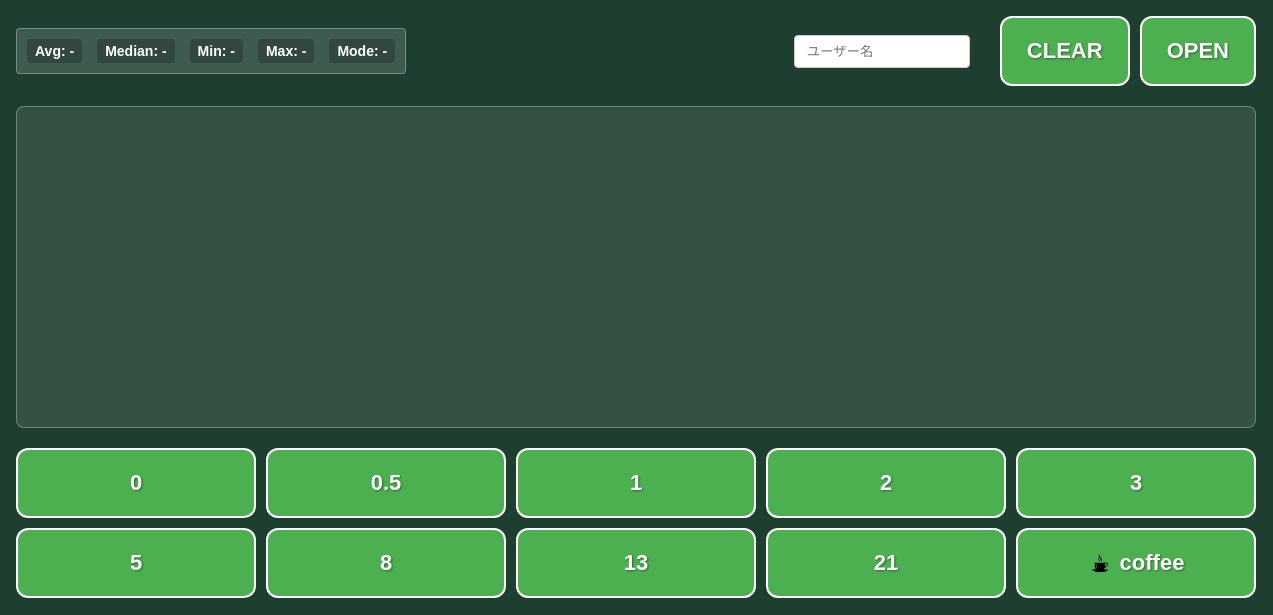
Test: ScrumPokerBoard.vue › Opening Cards (openCards) › opens cards, updates sessionStorage, and disables the OPEN button
Click the button "OPEN".
click(1198, 51)  # box x1=1140 y1=16 x2=1256 y2=86
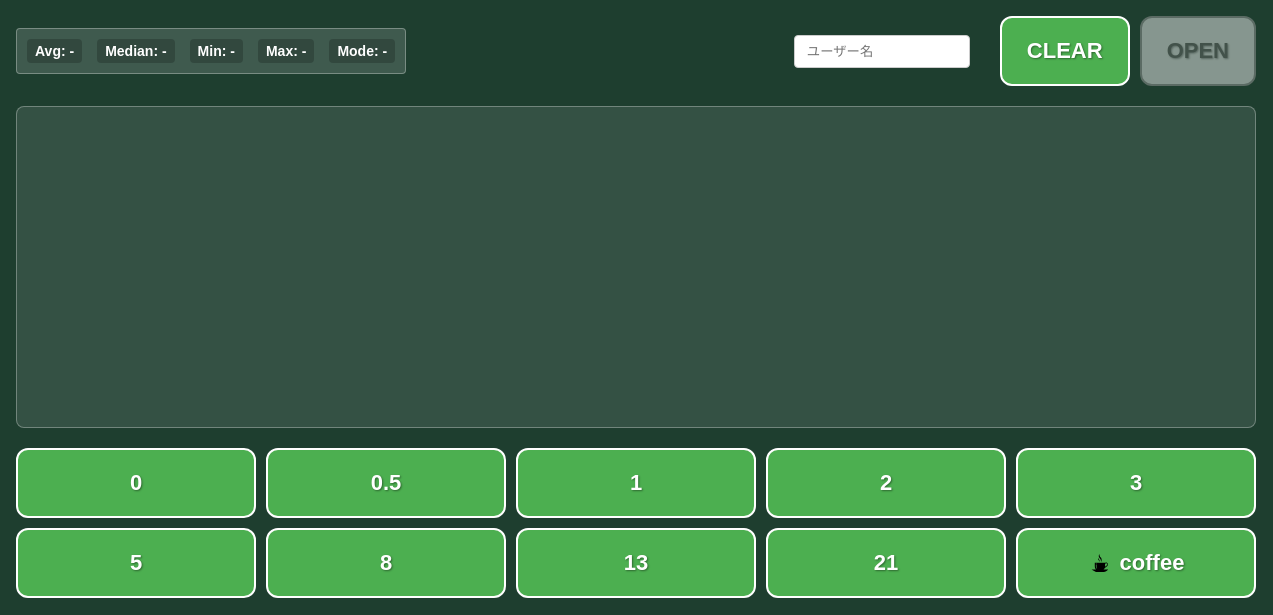
Expected: the button "OPEN" is disabled, x1=1140 y1=16 x2=1256 y2=86
